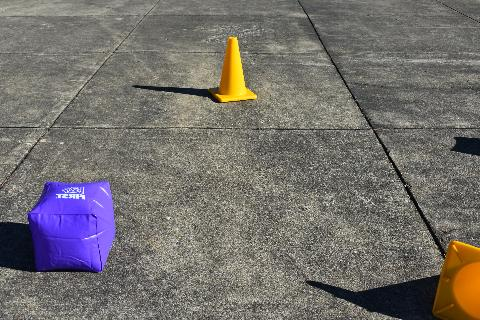cone: (432, 240, 480, 320), (208, 37, 258, 103)
cube: (27, 180, 116, 272)
